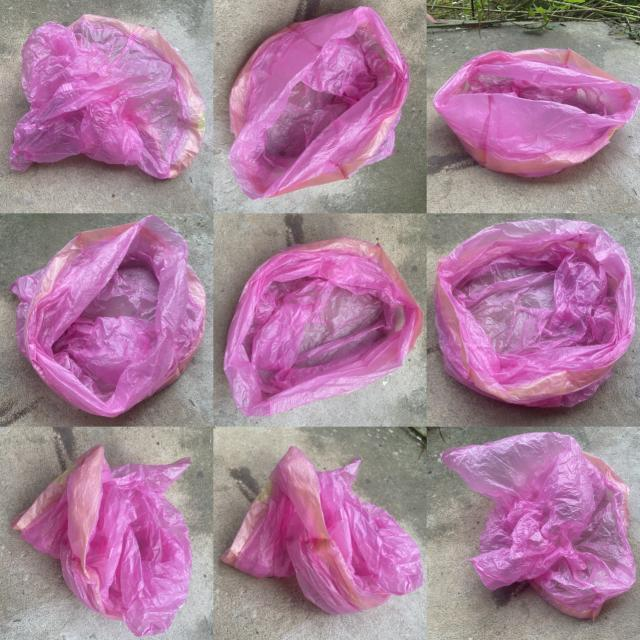Single-layer Plastic: (9, 216, 206, 417), (435, 219, 635, 407), (441, 432, 635, 618), (224, 238, 424, 416), (229, 6, 410, 199), (11, 445, 191, 636), (221, 446, 422, 615), (10, 15, 205, 179), (434, 49, 640, 177)
